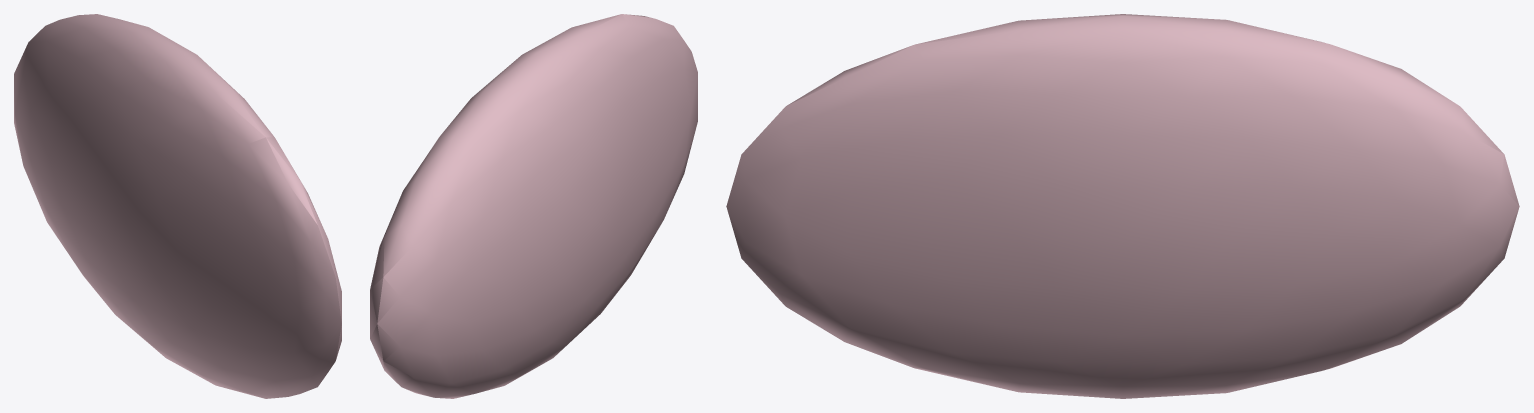
Rendered from axolotl_tail.glb.
3 views of the same model, side by side, from view 1: azimuth 30°, elevation 25°; view 2: azimuth 150°, elevation 25°; view 3: azimuth 270°, elevation 25° (orthographic). The views are drawn at different scales.
Visible parts, largest first — view 1: axolotl_tail; view 2: axolotl_tail; view 3: axolotl_tail.
Part boxes in pixels (bbox=[...]): axolotl_tail: bbox=[14, 14, 341, 398]; axolotl_tail: bbox=[370, 14, 697, 398]; axolotl_tail: bbox=[726, 14, 1519, 398].
Size of the model in its own units: 0.07 by 0.18 by 0.34.
